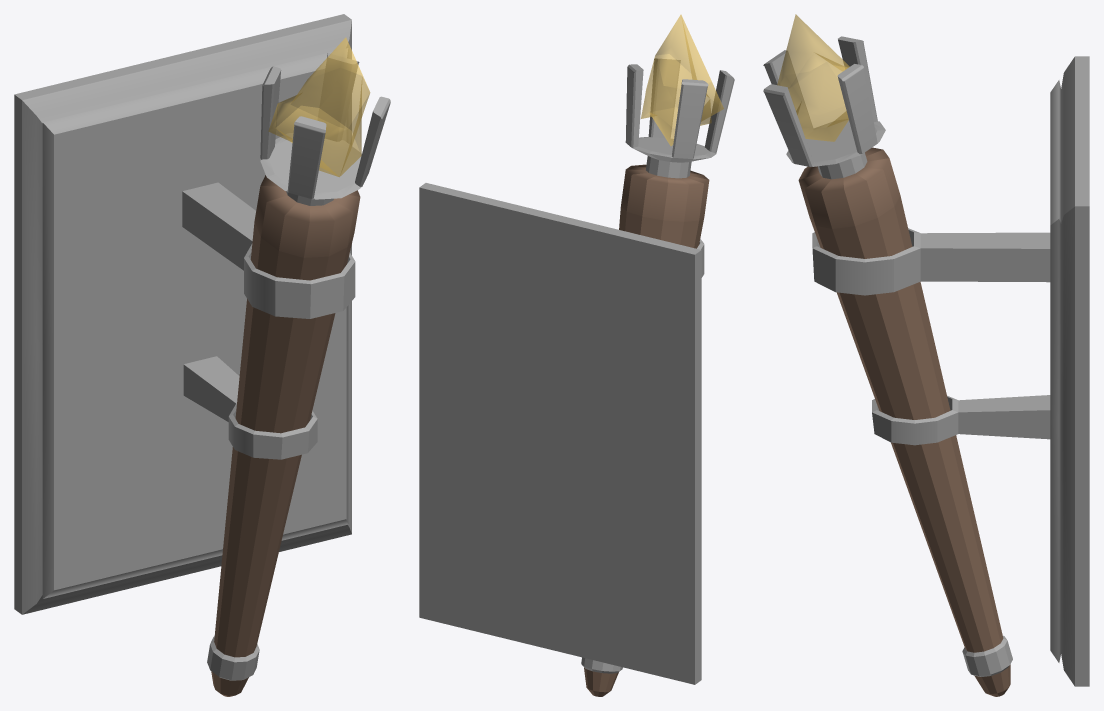
Rendered from Wall_Light.fbx.
3 renders of one model, left to right at view 1: azimuth 30°, elevation 25°; view 2: azimuth 150°, elevation 25°; view 3: azimuth 270°, elevation 25°, orthographic. The views are drawn at different scales.
Visible parts, largest first — view 1: pCube4, pCylinder6, pCube6; view 2: pCube4, pCylinder6, pCube6; view 3: pCube4, pCylinder6, pCube6.
Part boxes in pixels (box(x1,y1,x2,y2)): pCube4: box(14, 14, 355, 614); pCylinder6: box(207, 53, 390, 696); pCube6: box(268, 37, 370, 177); pCube4: box(419, 183, 704, 684); pCylinder6: box(581, 58, 734, 696); pCube6: box(641, 14, 723, 146); pCube4: box(812, 56, 1089, 686); pCylinder6: box(763, 36, 1012, 696); pCube6: box(777, 14, 849, 141).
Size of the model in its own units: 1 by 2.13 by 0.9182.
